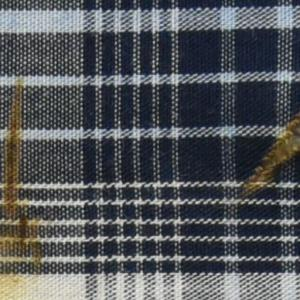Damage: (254, 116, 300, 197)
Oil Stain: (1, 73, 54, 300), (234, 107, 300, 208)
